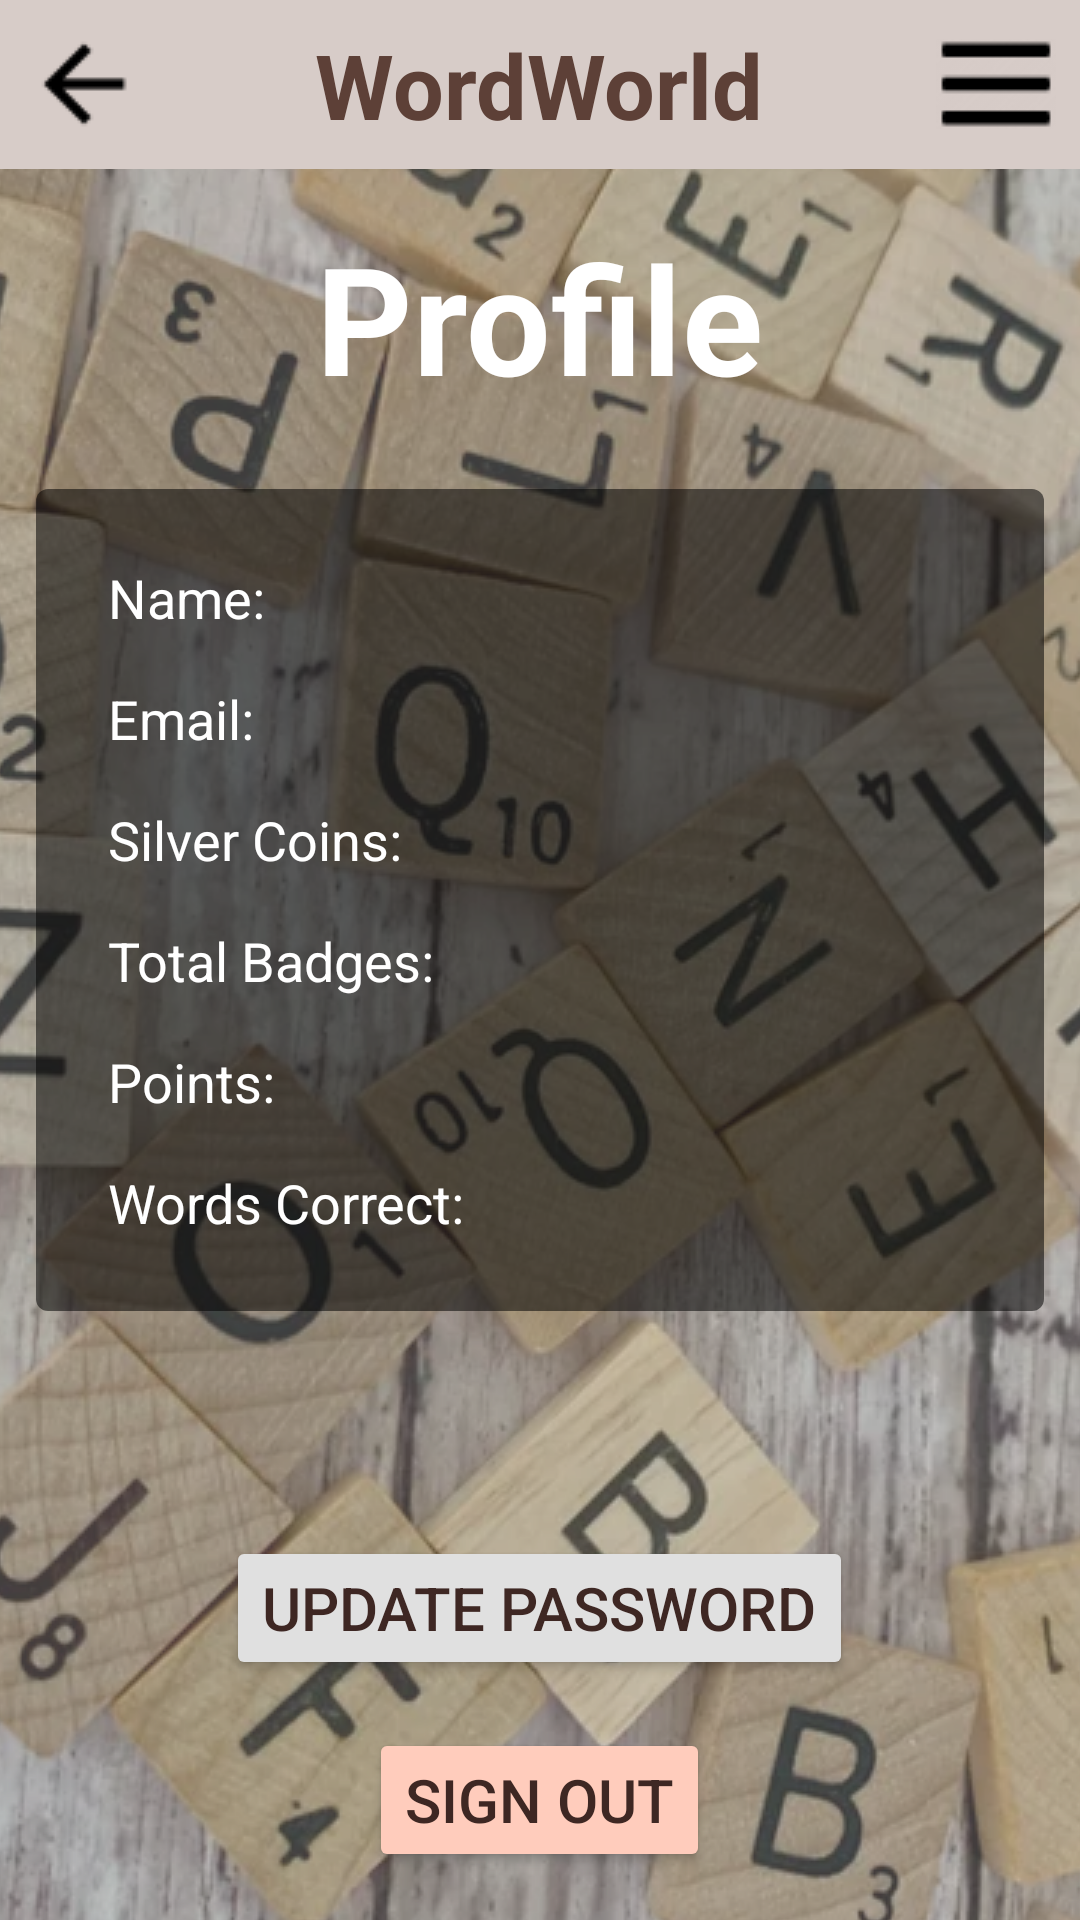

Icon bounding boxes for this 1080*1920 phone screenshot, format bbox=[x1, y1, x2, y2]:
Back: bbox=[44, 44, 127, 124]
Navigation: bbox=[941, 41, 1051, 127]
